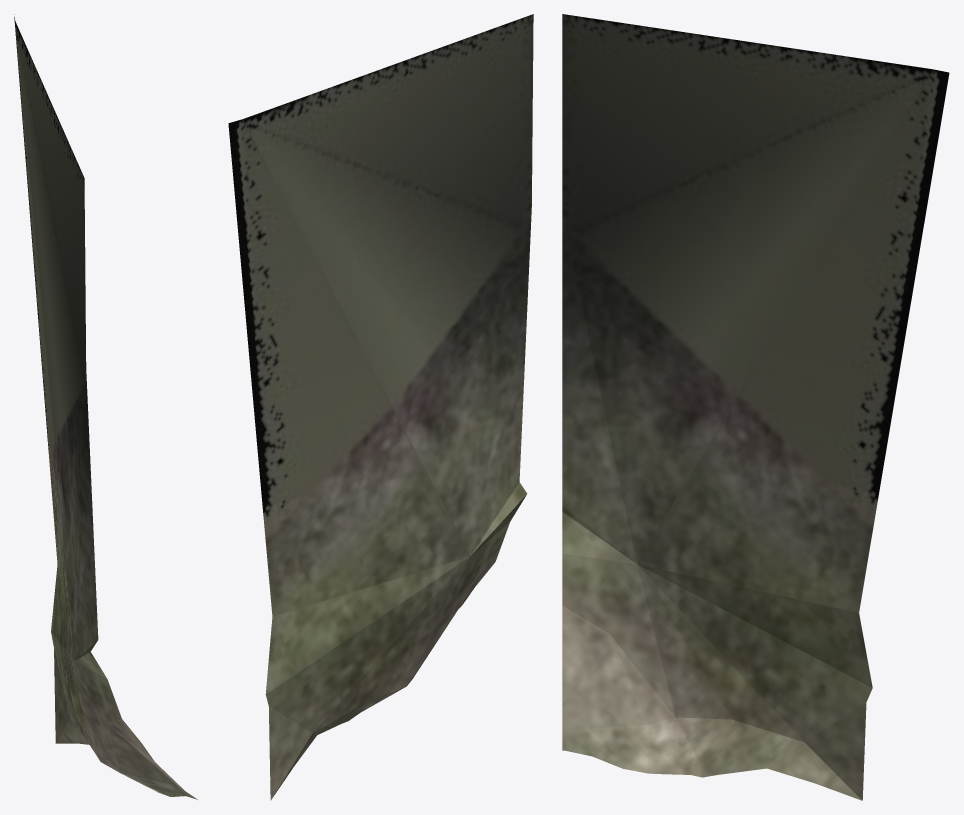
3 views of the same model, side by side, from view 1: azimuth 30°, elevation 25°; view 2: azimuth 150°, elevation 25°; view 3: azimuth 270°, elevation 25° (orthographic). The views are drawn at different scales.
Bounding box in the file's own units: 0.8683 × 5.03 × 2.42.
1 material, 1 textured.
